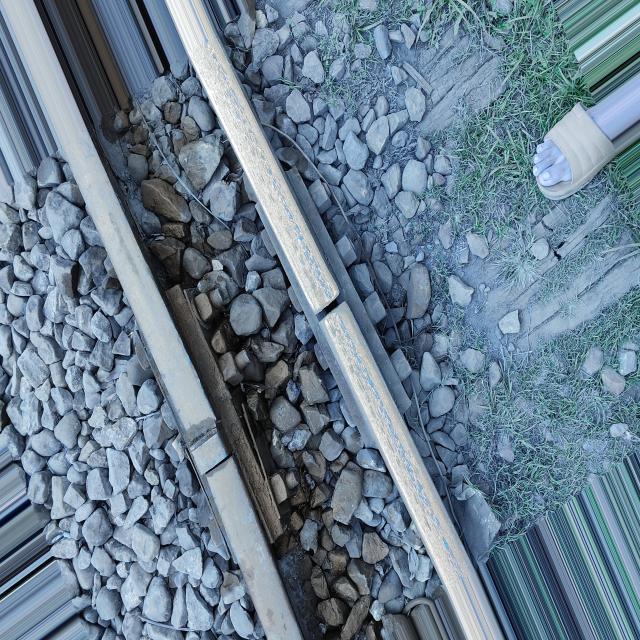Defective Joint: (134, 262, 314, 578)
Good Joint: (248, 151, 436, 474)
